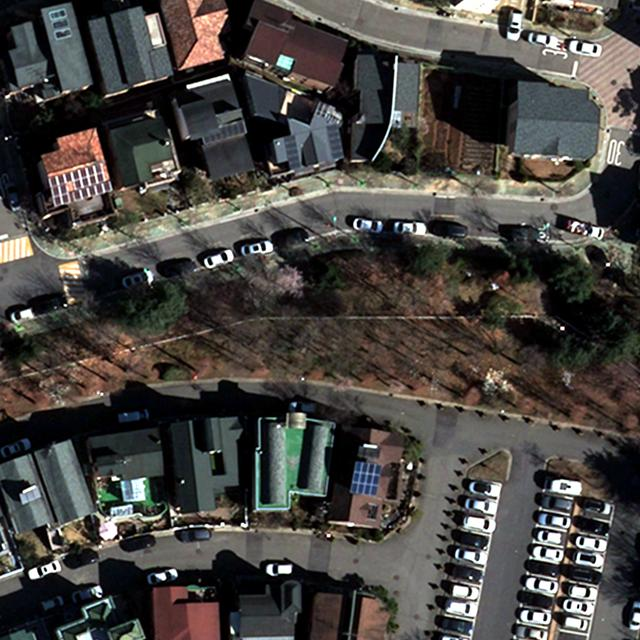panel: (45, 163, 118, 208), (348, 459, 383, 498)
